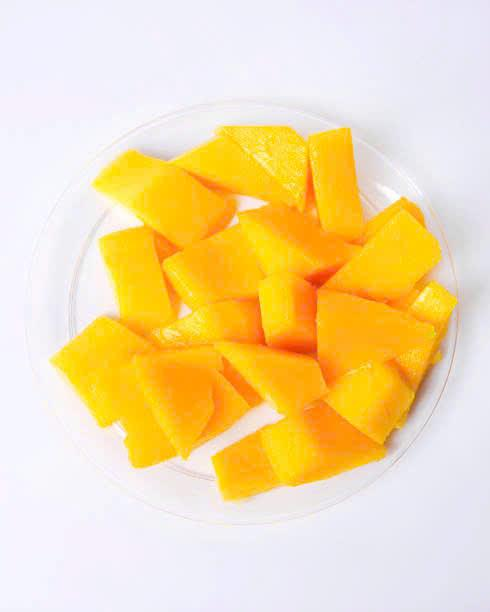mango: (49, 129, 453, 491)
